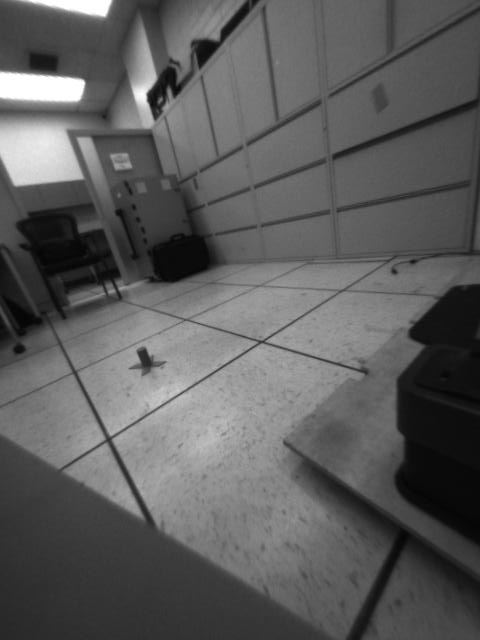X: (127, 346, 168, 378)
